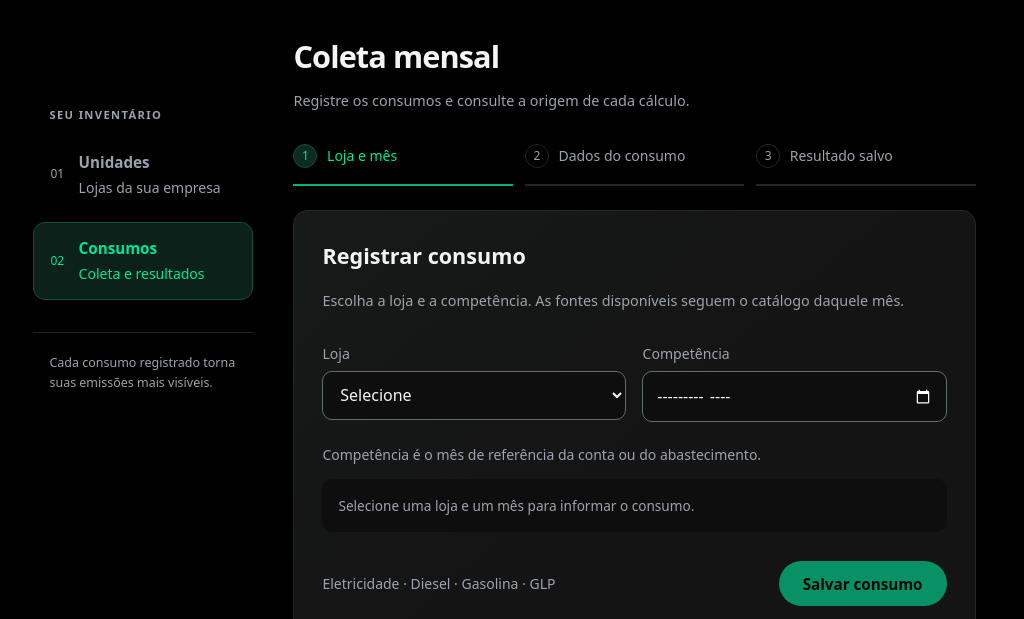
Test: trocar de rota preserva filtros e rascunho sem consultar lojas novamente
The width and height of the screenshot is (1024, 619).
Select "Loja Centro" in the dropdown labelled "Loja" at (474, 396), box [322,371,626,420]
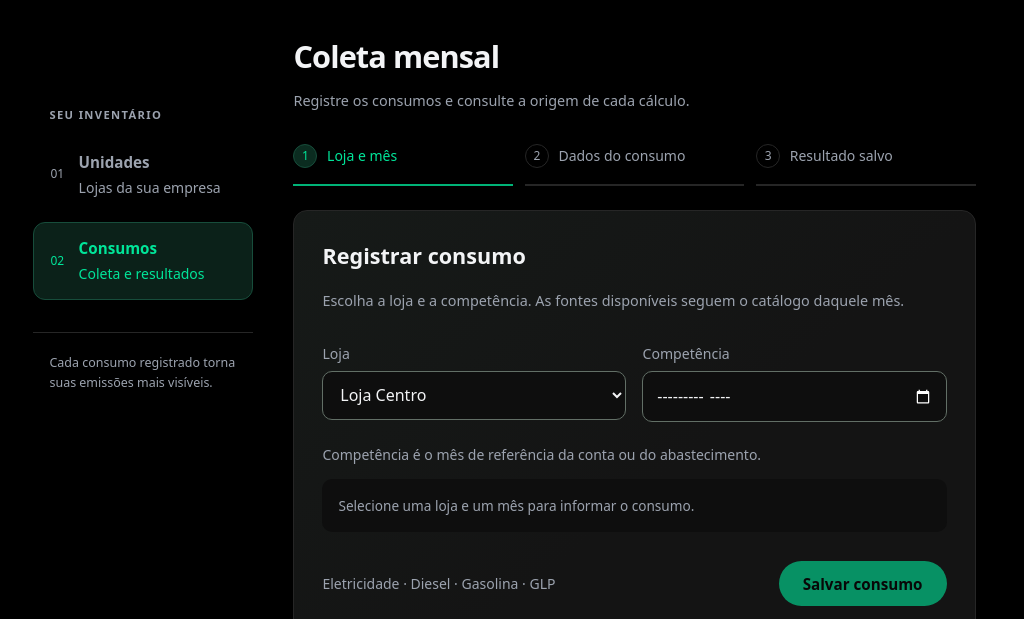
Type "2025-10" into the field labelled "Competência" at (794, 397), box [642,371,946,422]
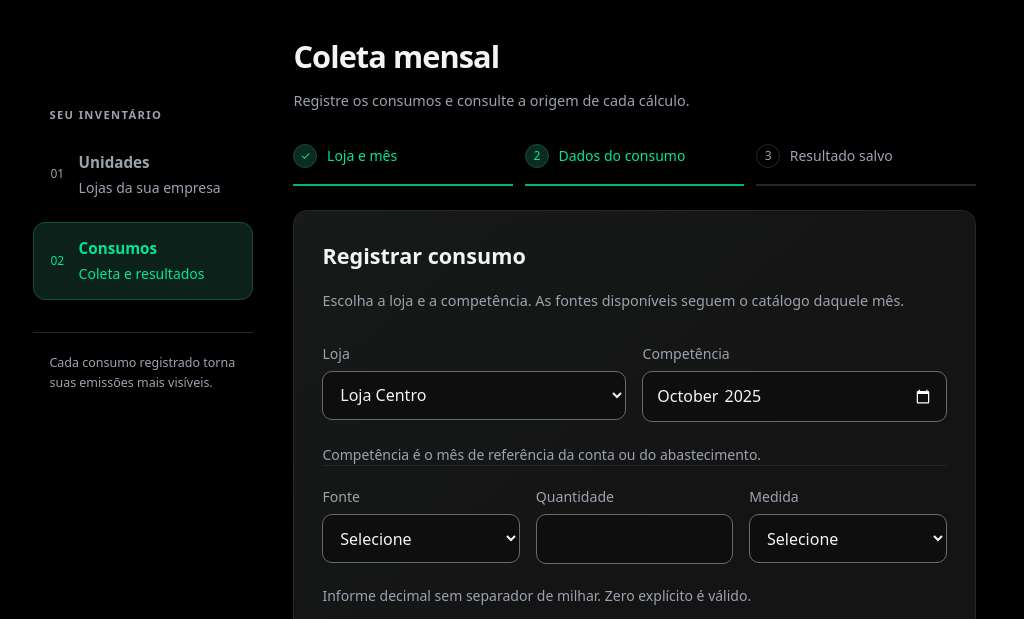
Select "Eletricidade" in the dropdown labelled "Fonte" at (421, 538), box [322,514,520,563]
Type "1,5" into the field labelled "Quantidade" at (634, 539), box [536,514,733,564]
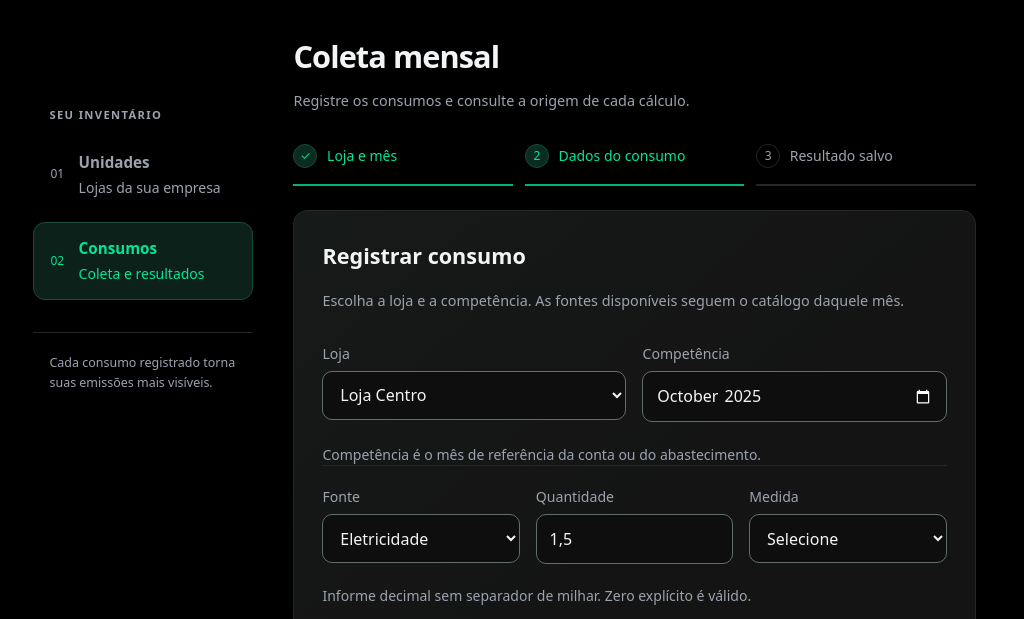
Select "MWh" in the dropdown labelled "Medida" at (848, 538), box [749,514,947,563]
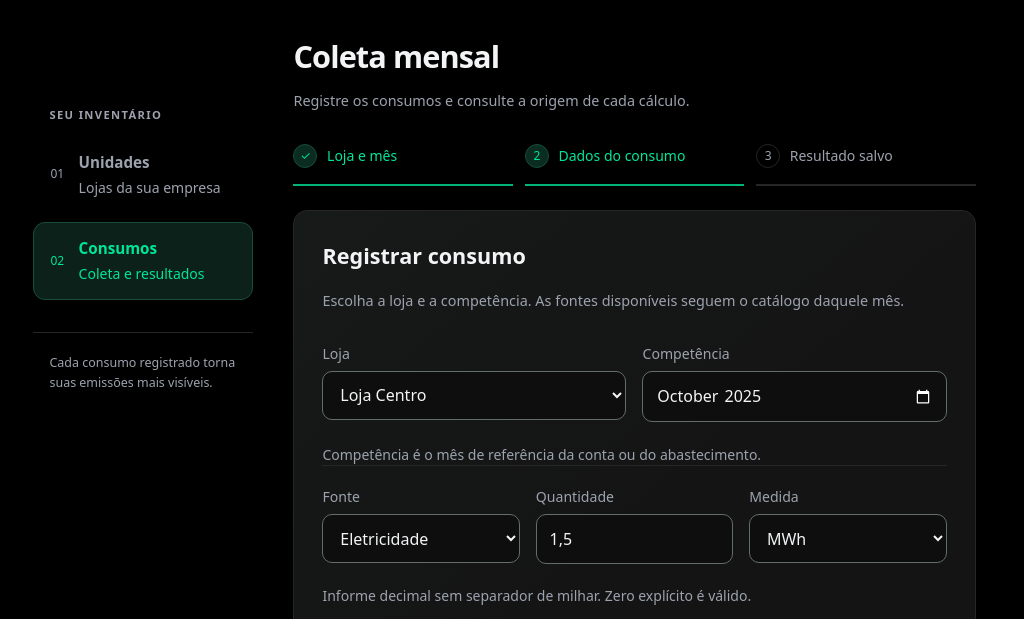
Click the link "01 Unidades Lojas da sua empresa" at (136, 174), box [50,152,221,197]
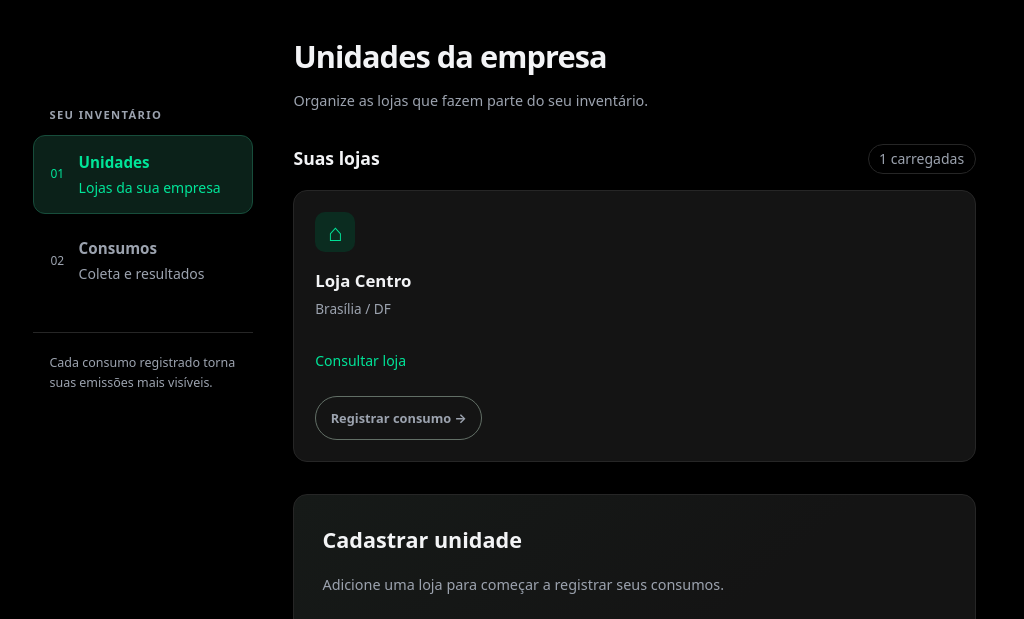
Result: the label labelled "Quantidade" is gone
Click the link "02 Consumos Coleta e resultados" at (128, 261), box [50,238,205,283]
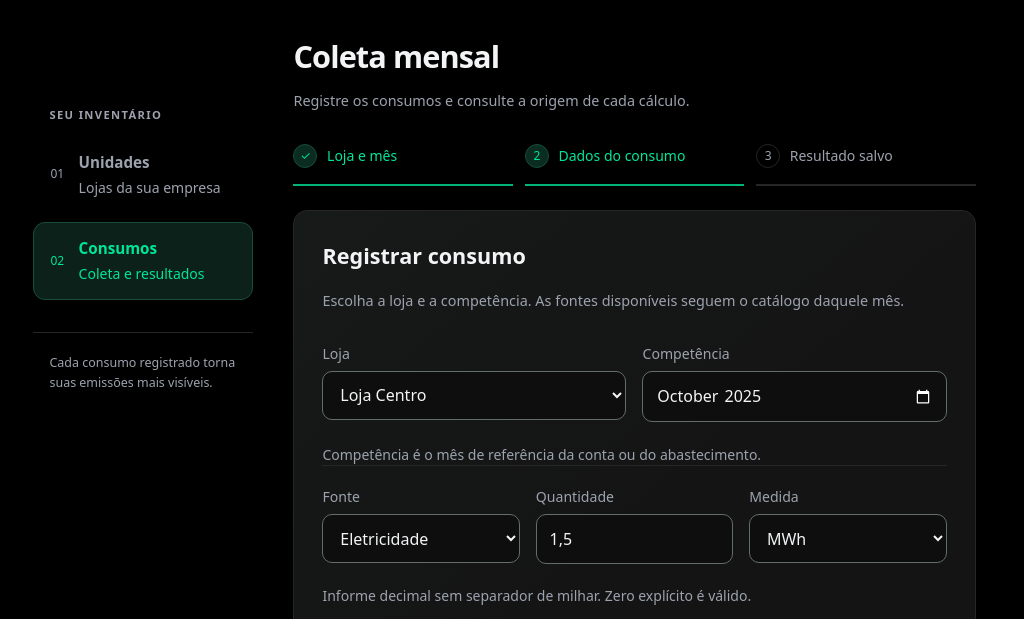
Result: the dropdown labelled "Loja" shows "Loja Centro" at [322,371,626,420]
Result: the field labelled "Competência" holds "2025-10" at [642,371,946,422]
Result: the dropdown labelled "Fonte" shows "Eletricidade" at [322,514,520,563]
